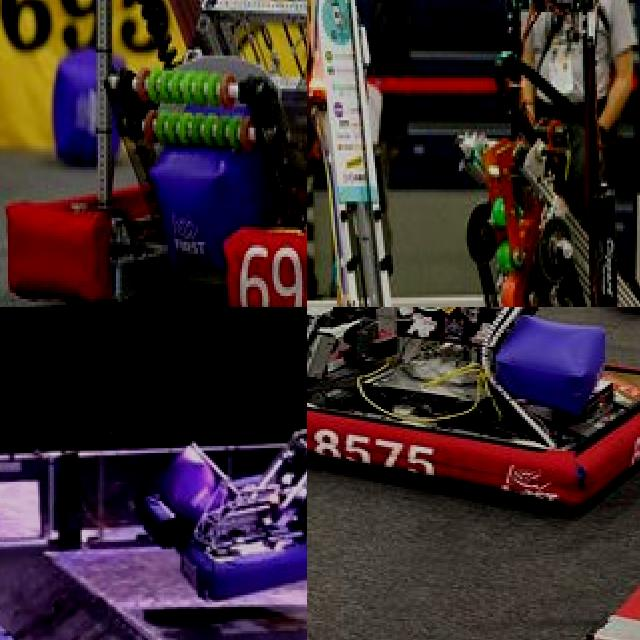FRC-Robots: (0, 0, 307, 307), (307, 307, 640, 505), (307, 0, 472, 307), (397, 102, 640, 307), (130, 413, 307, 625)
